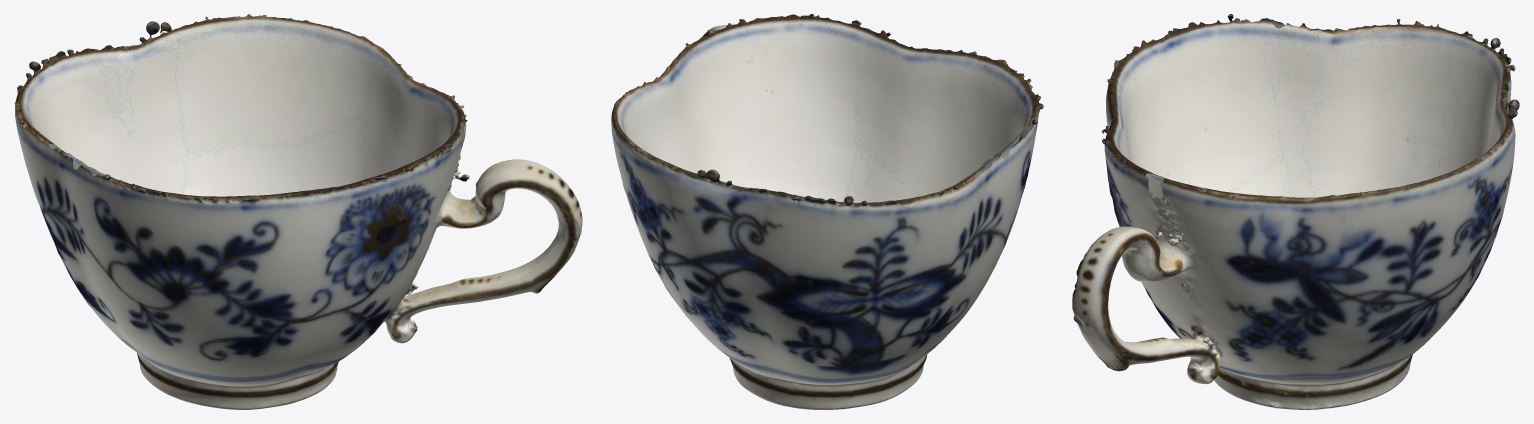
File: obj_white_china_teacup_bfa9fe.glb
3 views of the same model, side by side, from view 1: azimuth 30°, elevation 25°; view 2: azimuth 150°, elevation 25°; view 3: azimuth 270°, elevation 25° (orthographic). The views are drawn at different scales.
Visible parts, largest first — view 1: obj_white_china_teacup_bfa9fe; view 2: obj_white_china_teacup_bfa9fe; view 3: obj_white_china_teacup_bfa9fe.
Part boxes in pixels (x1,y1,x2,y2): obj_white_china_teacup_bfa9fe: (14, 14, 582, 409); obj_white_china_teacup_bfa9fe: (611, 14, 1043, 409); obj_white_china_teacup_bfa9fe: (1072, 14, 1519, 409).
Size of the model in its own units: 0.3 by 0.1888 by 0.2759.
1 material, 1 textured.
